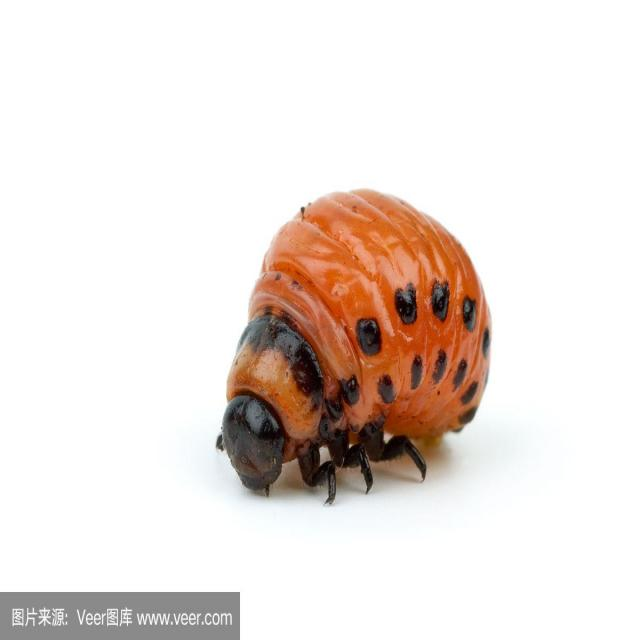ShuCaiHuaBanChong-Larva-: (209, 179, 507, 512)
